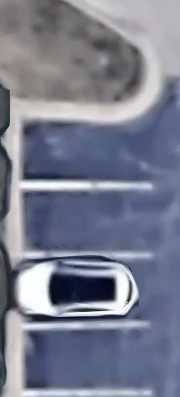Occupied: (17, 255, 150, 325)
Vacant: (17, 113, 151, 185), (17, 185, 152, 255), (16, 325, 150, 394)
